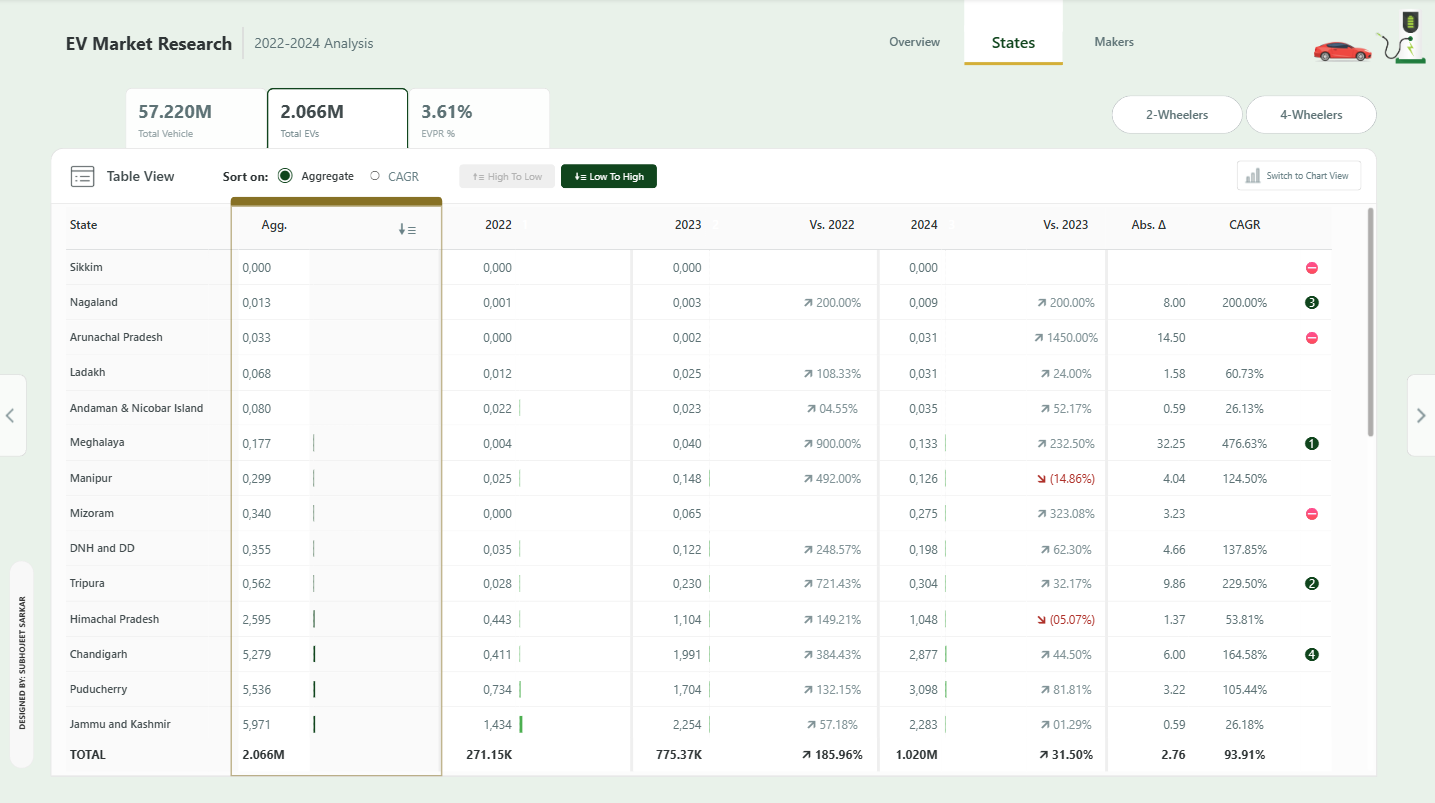

The page's visual inventory and layout, read from the dashboard file:
{"tool":"powerbi","page":{"name":"States: 2","canvas":[1920,1080],"ordinal":3},"visuals":[{"type":"advancedSlicerVisual","title":"Slicer :Total Sales/EV Sales/EVPR%","fields":{"Values":["Param 0201: Total Sales/EV Sales/EVPR%.Total Sales/EV Sales/EVPR%"],"Label":["KPIs.Lbl Switch 1"]},"box":[171,116,568,88],"z":0},{"type":"clusteredColumnChart","fields":{"Y":["KPIs.CAGR"],"Rows":["electric_vehicle_sales_by_state.State"]},"box":[67,274.3,1776,777.1],"z":0,"group":"g1"},{"type":"shape","title":"Container Frame","box":[66.7,196.7,1776.7,853.3],"z":1000},{"type":"actionButton","title":"Aggregate Radio Button","box":[380,228,112,32],"z":1000,"group":"g1"},{"type":"image","box":[1753.3,25,86.8,93.5],"z":2000},{"type":"actionButton","title":"Aggregate Radio Button","box":[502,228,80,32],"z":2000,"group":"g1"},{"type":"image","box":[1828.2,0,91.8,100.2],"z":3000},{"type":"actionButton","box":[1158.8,33.8,131.2,48.8],"z":4000},{"type":"actionButton","box":[1290,36.3,131.4,48.6],"z":5000},{"type":"shape","box":[1290,75,131.7,25],"z":6000},{"type":"shape","box":[1290,0,131.7,45],"z":7000},{"type":"actionButton","box":[1425.6,33.3,130,48.9],"z":8000},{"type":"actionButton","box":[0,503.3,38.3,110],"z":9000},{"type":"actionButton","box":[1881.2,502.5,38.8,110],"z":10000},{"type":"shape","title":"Label :Sort Order","box":[300,218,72,50],"z":11000},{"type":"shape","box":[146.7,221.7,116.7,40],"z":12000},{"type":"shape","box":[261.4,221.2,12.9,44.3],"z":13000},{"type":"advancedSlicerVisual","title":"Slicer: SORT_Order","fields":{"Values":["0201_SORT Order.SORT_Order"]},"box":[612,228,264,32],"z":14000},{"type":"group","id":"g1","title":"CAGR by State Chart ","box":[67,228,1776,823.4],"z":16000},{"type":"actionButton","box":[1652,222,168,40],"z":17000},{"type":"shape","box":[90.5,41.6,229.8,36.2],"z":18000},{"type":"shape","box":[320,38.5,13.3,43.3],"z":19000},{"type":"shape","box":[341.6,41.9,268.3,36.7],"z":20000},{"type":"actionButton","box":[15,752,33,278],"z":21000},{"type":"advancedSlicerVisual","fields":{"Values":["Dim_Vehicle_type.Description"]},"box":[1488.3,130,355,51.7],"z":22000},{"type":"image","box":[90,209.8,45.7,55.7],"z":23000}]}

Visuals, with their boxes in screenshot pixels (x1, y1, x2, y2), scaled from the page's 1920x1080 canvas onto the 1435x803 screenshot:
"Slicer :Total Sales/EV Sales/EVPR%" advancedSlicerVisual: [128,86,552,152]
clusteredColumnChart - KPIs.CAGR x electric_vehicle_sales_by_state.State: [50,204,1377,782]
"Container Frame" shape: [50,146,1378,781]
"Aggregate Radio Button" actionButton: [284,170,368,193]
image: [1310,19,1375,88]
"Aggregate Radio Button" actionButton: [375,170,435,193]
image: [1366,0,1434,75]
actionButton: [866,25,964,61]
actionButton: [964,27,1062,63]
shape: [964,56,1063,74]
shape: [964,0,1063,33]
actionButton: [1065,25,1163,61]
actionButton: [0,374,29,456]
actionButton: [1406,374,1434,455]
"Label :Sort Order" shape: [224,162,278,199]
shape: [110,165,197,195]
shape: [195,164,205,197]
"Slicer: SORT_Order" advancedSlicerVisual: [457,170,655,193]
"CAGR by State Chart " group: [50,170,1377,782]
actionButton: [1235,165,1360,195]
shape: [68,31,239,58]
shape: [239,29,249,61]
shape: [255,31,456,58]
actionButton: [11,559,36,766]
advancedSlicerVisual - Dim_Vehicle_type.Description: [1112,97,1378,135]
image: [67,156,101,197]
